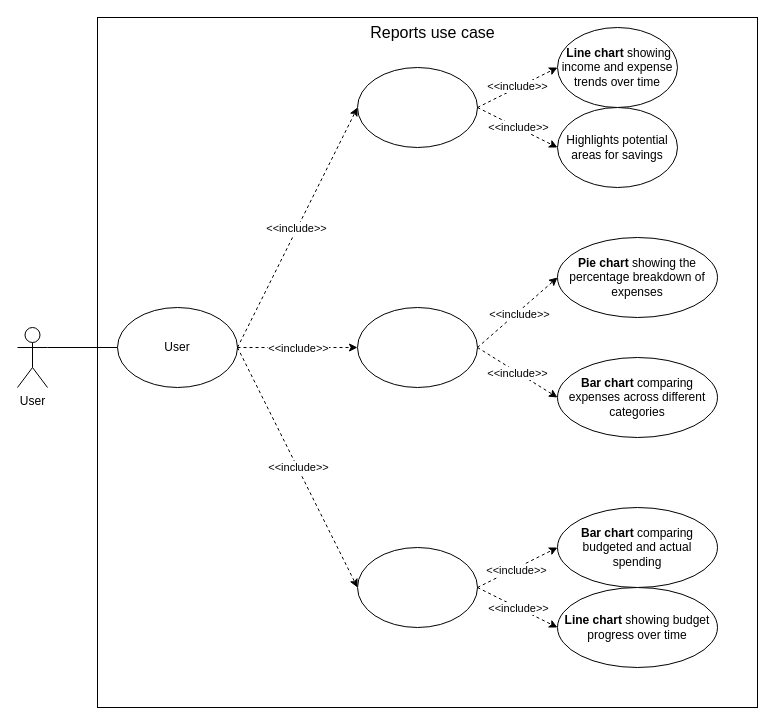
Some shapes in this 775 by 725 pixel diagram are drawn without their labels. Each missing label, with the box of its shape:
Budget vs Actual Report: (356, 546, 478, 628)
Expense Breakdown Report: (356, 306, 478, 388)
Income and Outcome report: (356, 66, 478, 148)
